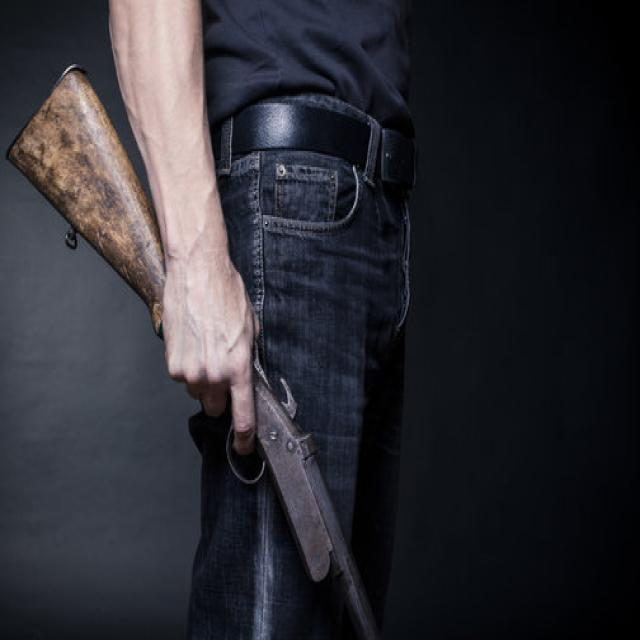ShotGun: (10, 68, 383, 640)
